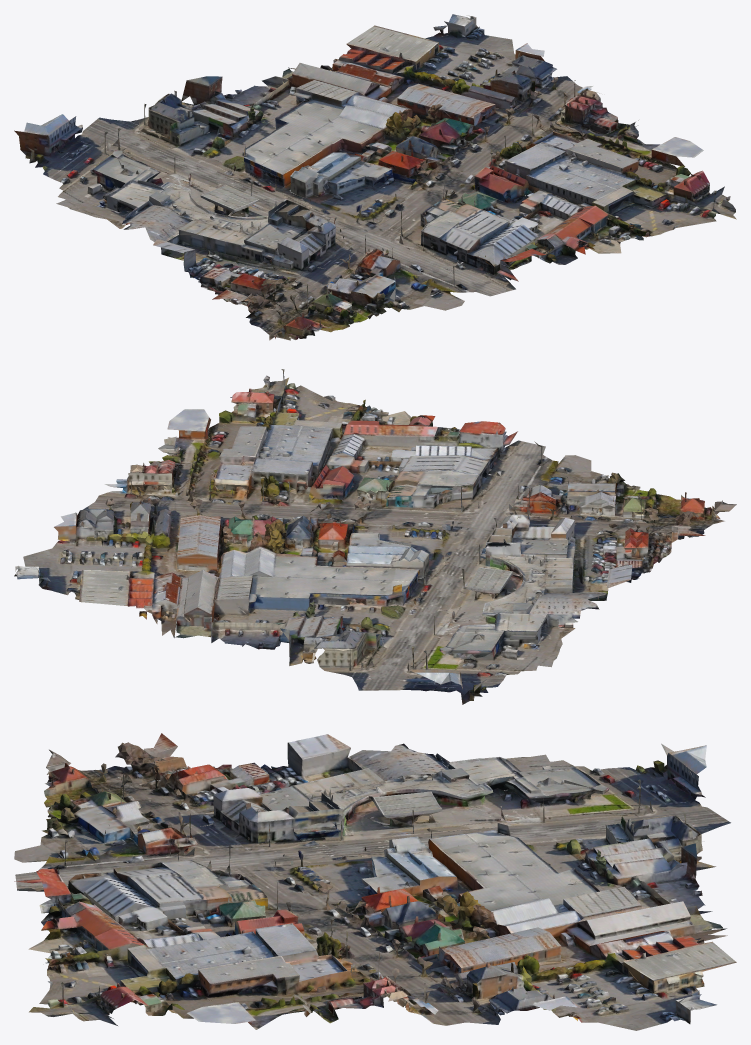
Rendered from Tile_011_005_L18.gltf.
The picture shows the model from 3 angles, top to bottom: view 1: azimuth 30°, elevation 25°; view 2: azimuth 150°, elevation 25°; view 3: azimuth 270°, elevation 25°; orthographic projection. The views are drawn at different scales.
Parts seen in each view (by area): view 1: Tile_+011_+005_L18; view 2: Tile_+011_+005_L18; view 3: Tile_+011_+005_L18.
Part boxes in pixels (box(x1,y1,x2,y2)): Tile_+011_+005_L18: box(14, 14, 736, 340); Tile_+011_+005_L18: box(14, 369, 736, 704); Tile_+011_+005_L18: box(14, 733, 736, 1030).
Size of the model in its own units: 226 by 19.27 by 225.
1 material, 1 textured.
